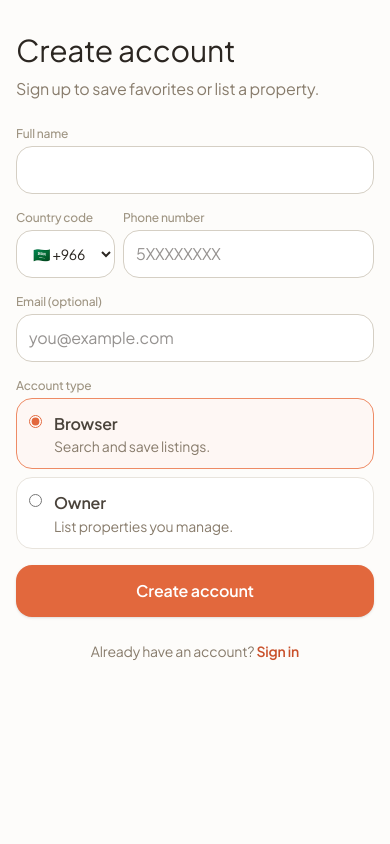
Test case: RegisterPage — edge cases (T-053) › shows API error message when the request fails
The image size is (390, 844).
Type "Amal" into the field labelled "Full name" at (195, 170), box [16,146,374,194]
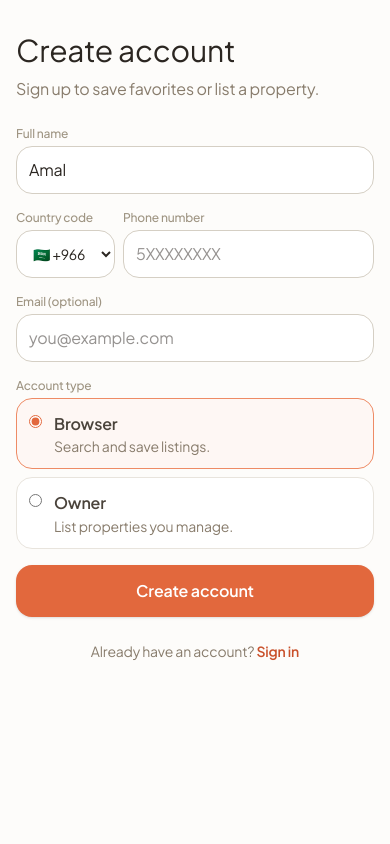
Select "🇸🇦 +966" in the dropdown labelled "Country code" at (66, 254), box [16,230,115,278]
Type "500000000" into the field labelled "Phone number" at (248, 254), box [123,230,374,278]
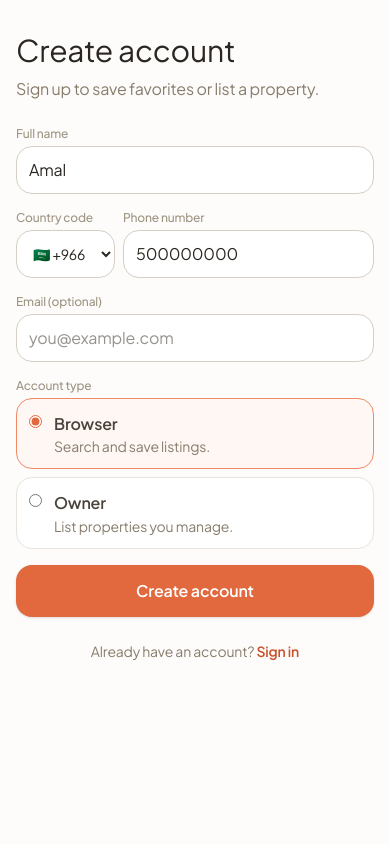
Click the button "Create account" at (195, 591), box [16,565,374,617]
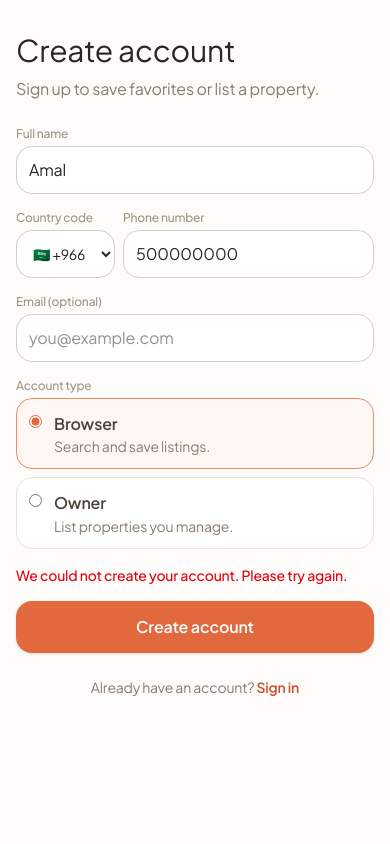
Expected: the message "We could not create your account. Please try again." is shown, [16,565,374,585]
